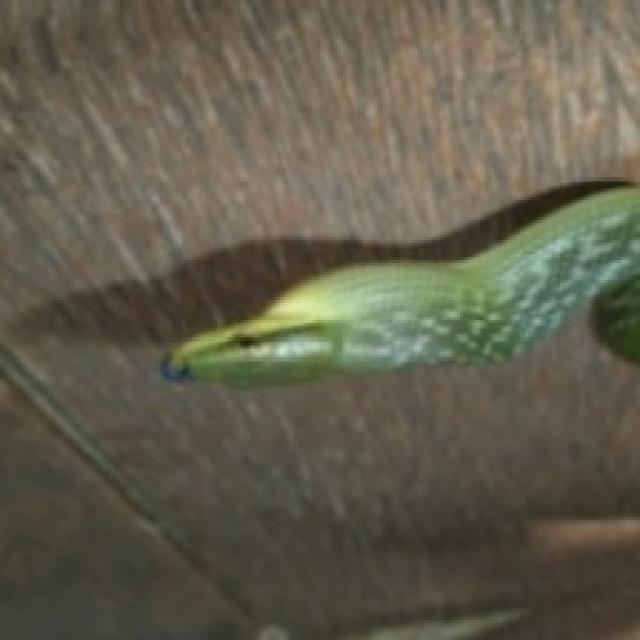red-tailed green ratsnake: (166, 186, 637, 383)
